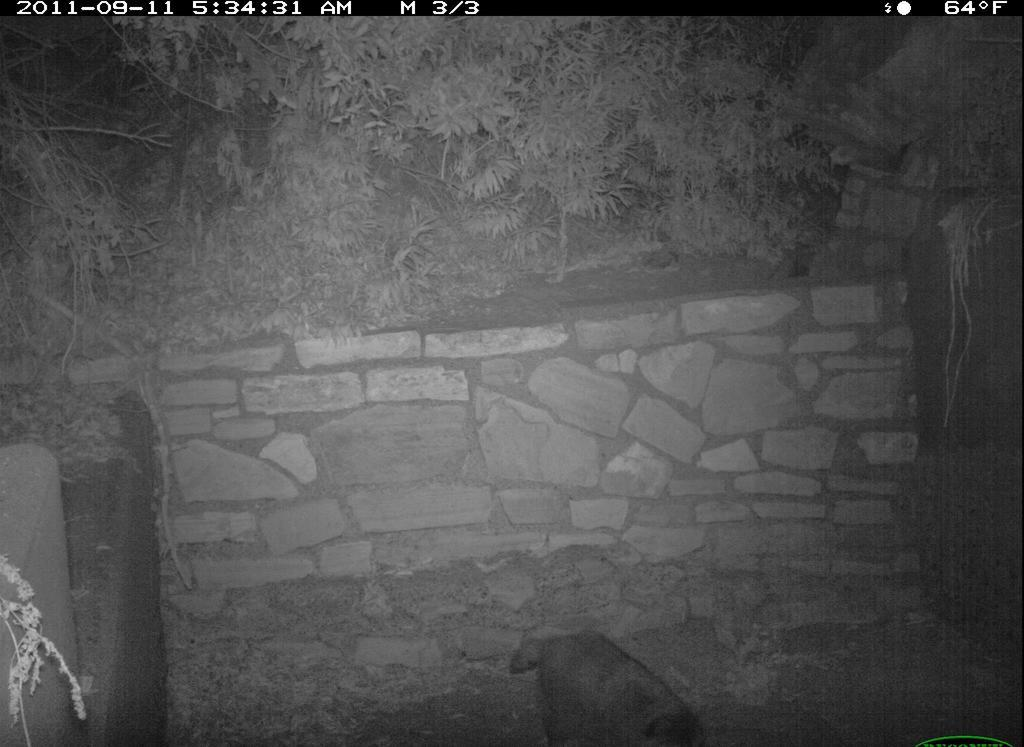raccoon: (492, 621, 703, 747)
